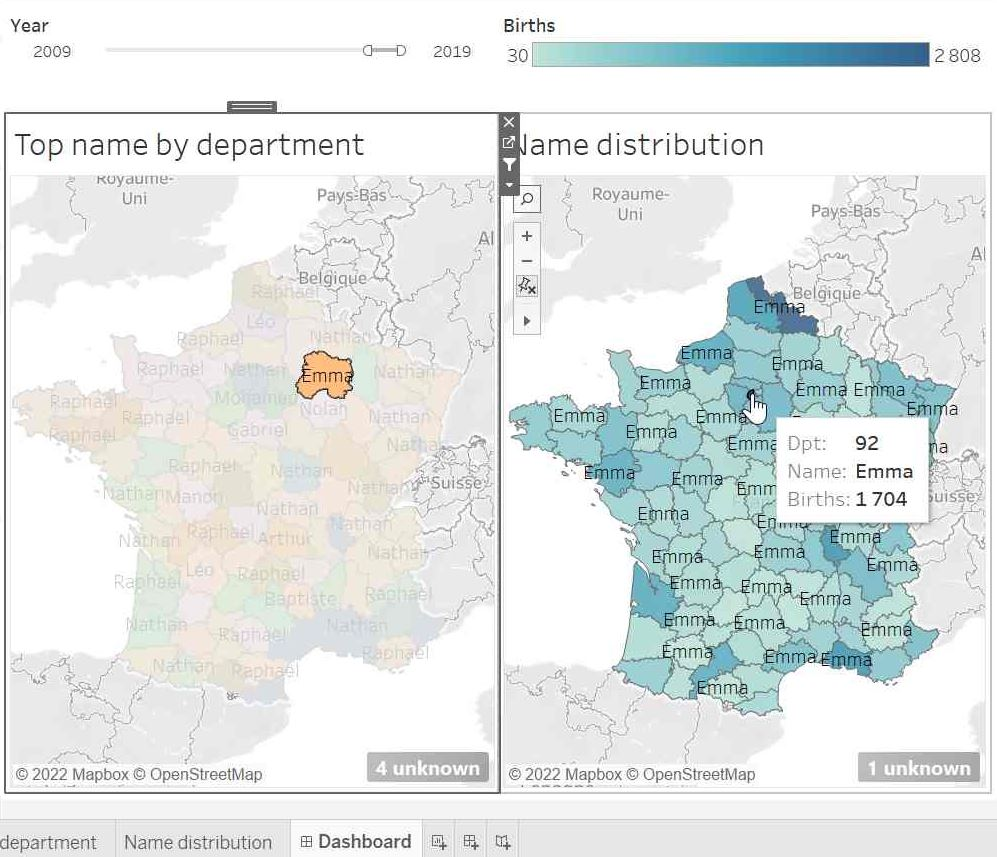

The dashboard page shown, as its layout file describes it:
{"tool":"tableau","page":{"name":"Dashboard","canvas":[1000,800],"ordinal":0},"visuals":[{"type":"filter","title":"Top name by department","param":"[federated.1p20m3106is92o1822rjm0di0x3f].[none:year:qk]","box":[8,8,493,59]},{"type":"legend","title":"Name distribution","param":"[federated.1p20m3106is92o1822rjm0di0x3f].[sum:births:qk]","box":[501,8,491,106]},{"type":"worksheet","title":"Top name by department","mark":"Multipolygon","box":[8,114,493,678]},{"type":"worksheet","title":"Name distribution","mark":"Multipolygon","box":[501,114,491,678]}]}

Visuals, with their boxes in screenshot pixels (x1, y1, x2, y2):
"Top name by department" filter: [left=10, top=5, right=495, bottom=63]
"Name distribution" legend: [left=495, top=5, right=978, bottom=109]
"Top name by department" worksheet (Multipolygon marks): [left=10, top=109, right=495, bottom=776]
"Name distribution" worksheet (Multipolygon marks): [left=495, top=109, right=978, bottom=776]
